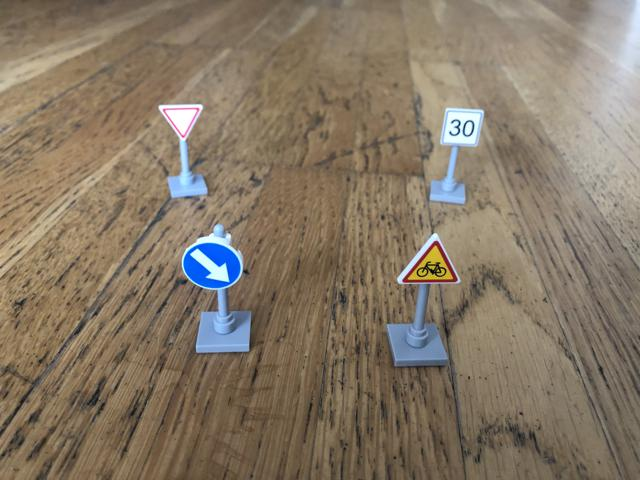radfahrer: (394, 234, 460, 287)
rechts halten: (183, 239, 243, 292)
tempolimit 30: (439, 105, 484, 148)
vorfahrt gewähren: (158, 100, 204, 141)
